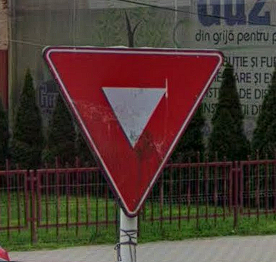cedeaza: (32, 36, 230, 222)
